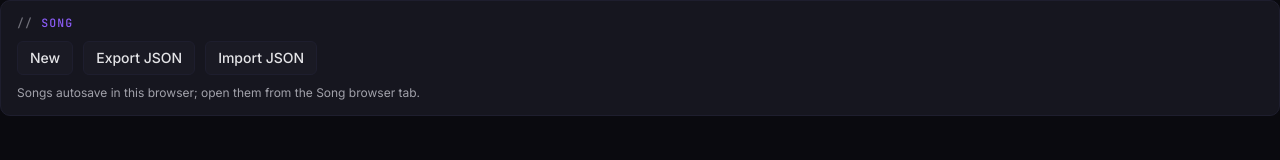
Test: SongIO › starts a new song and keeps the old one in the library
Click the button with test id "new-song" at point(45, 58), box [17,41,73,75]
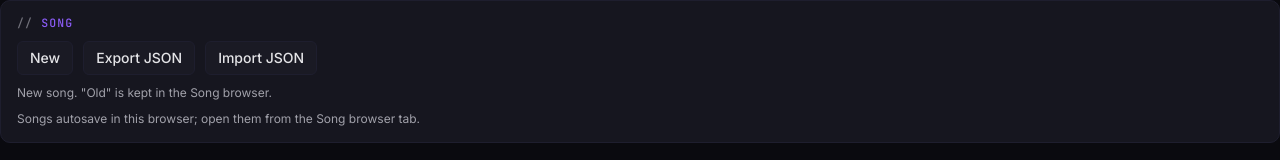
Check: the text with test id "io-message" reads "New song. \"Old\" is kept in the Song browser.", box [17,85,272,100]
